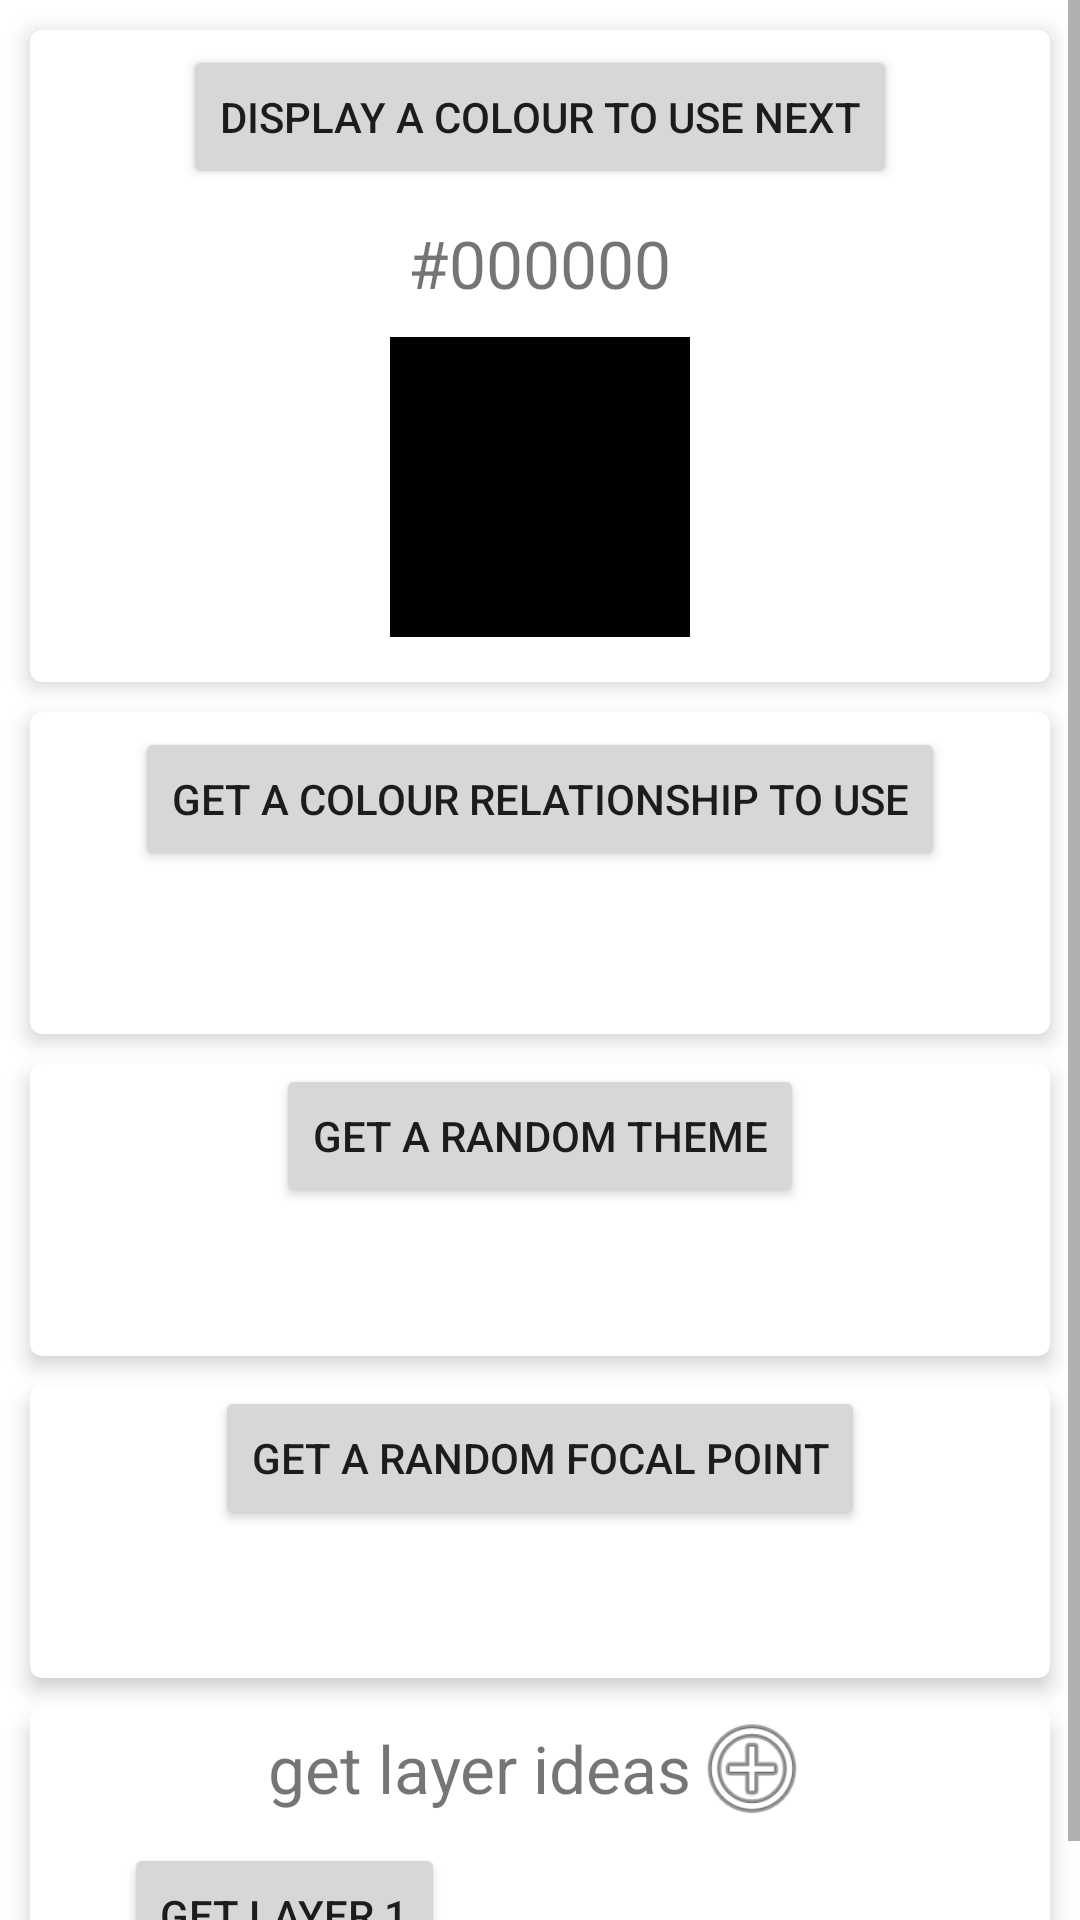

Named icons in this screenshot (1080*1920) and their centers, point (x, y):
add: point (752, 1768)
